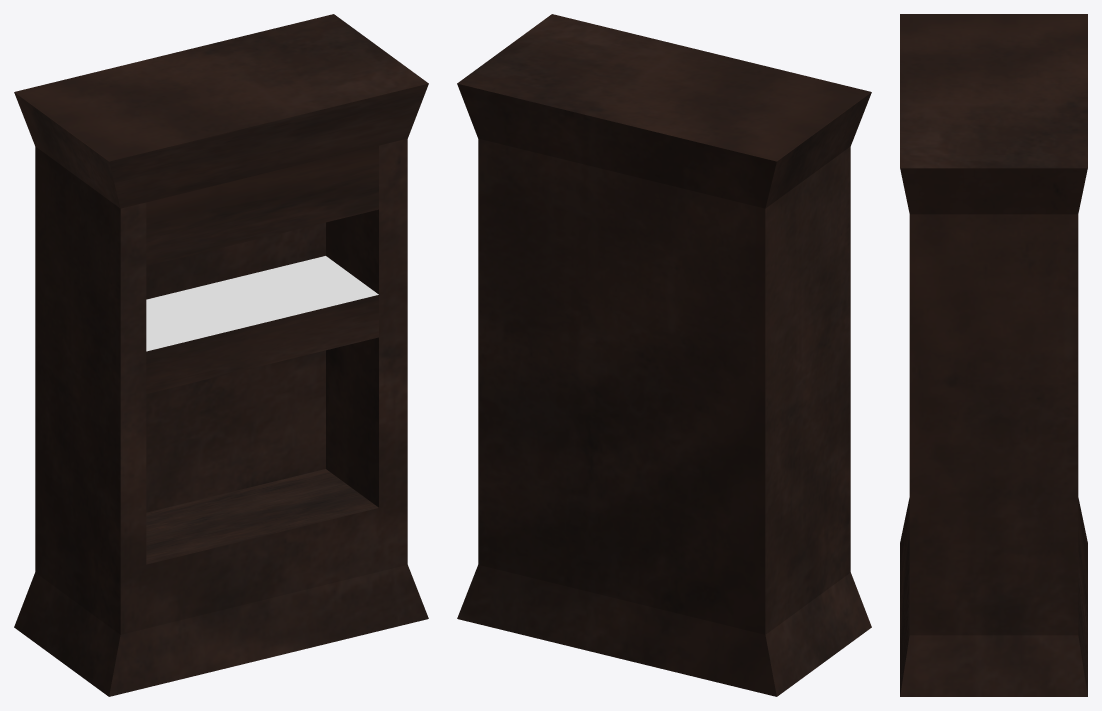
The model's file is Dark_Cabinet.fbx.
3 renders of one model, left to right at view 1: azimuth 30°, elevation 25°; view 2: azimuth 150°, elevation 25°; view 3: azimuth 270°, elevation 25°, orthographic.
Visible parts, largest first — view 1: Cabinet; view 2: Cabinet; view 3: Cabinet.
Boxes of the visible parts, x1,y1,x2,y2 form: Cabinet: (14,14,428,696); Cabinet: (457,14,871,696); Cabinet: (900,14,1087,696).
Bounding box in the file's own units: 156 × 249 × 80.1.
2 materials, 1 textured.
